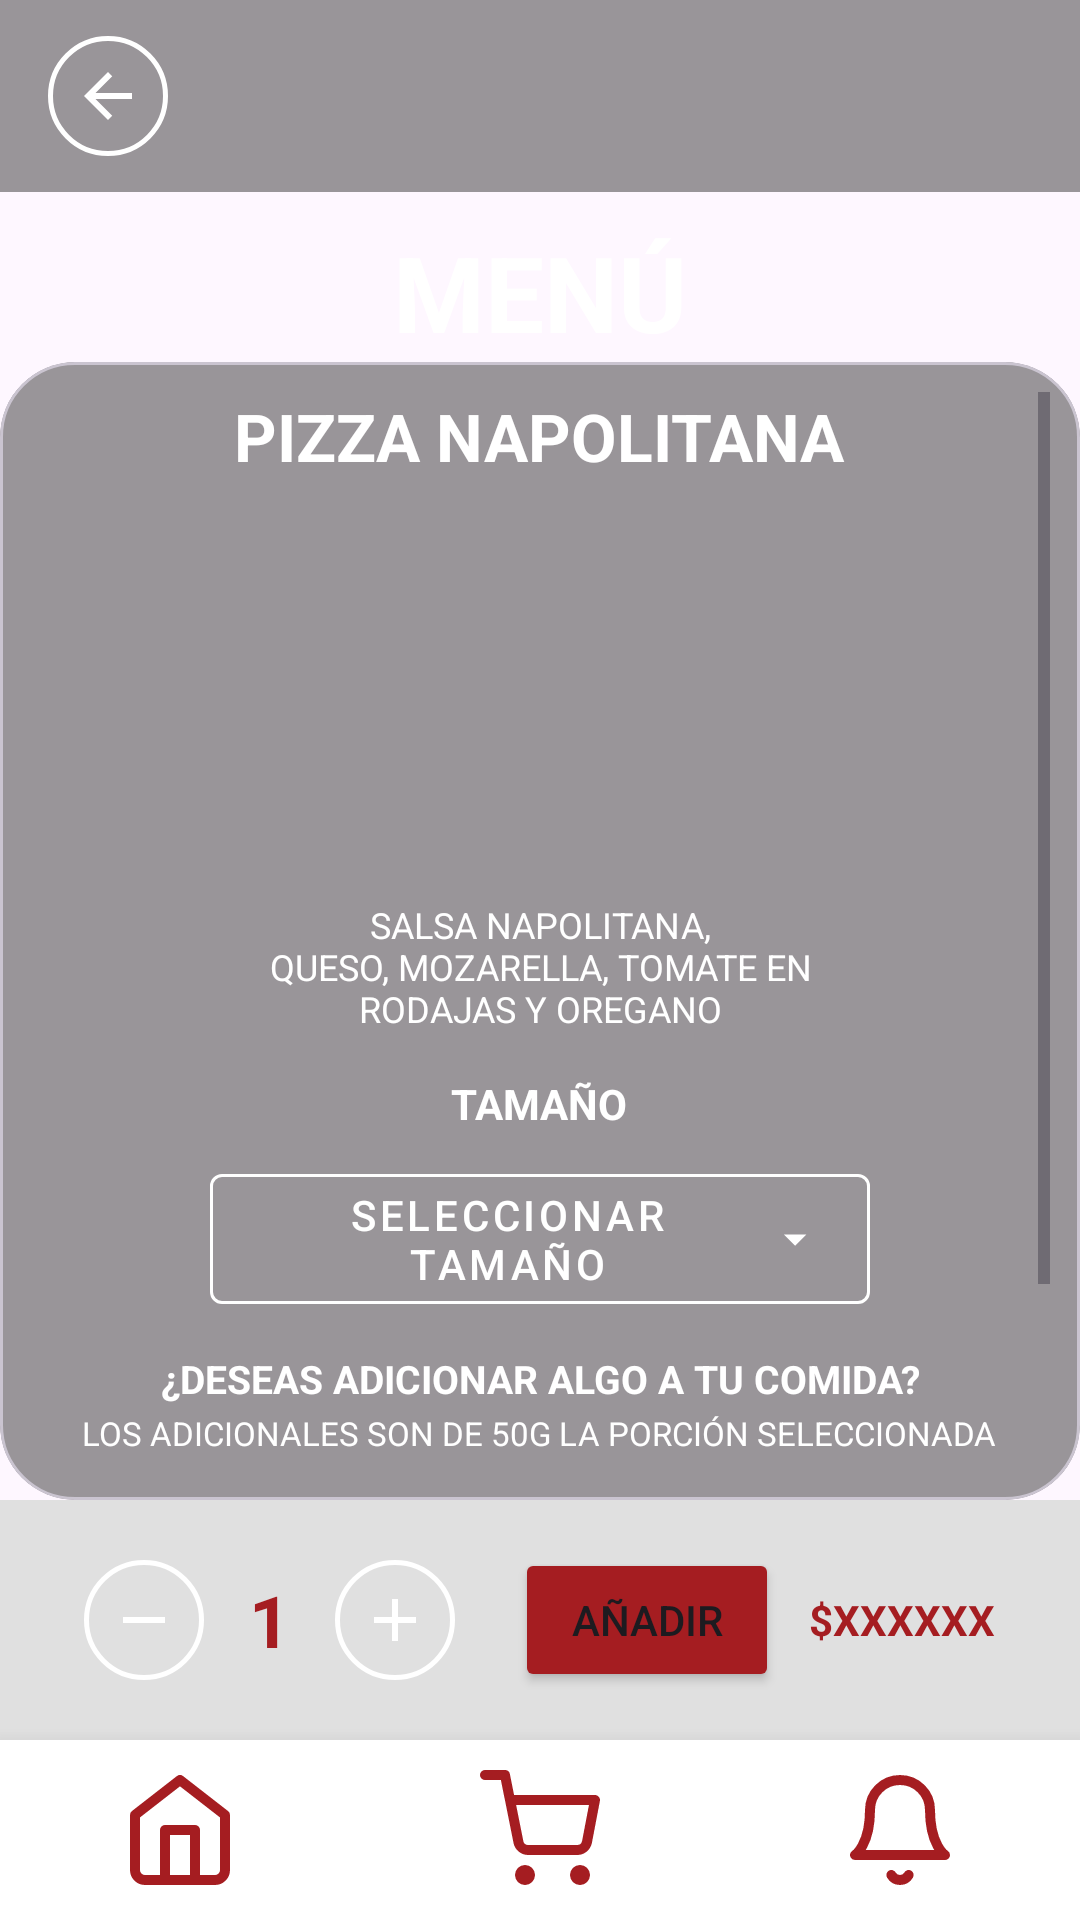

Screen size 1080 × 1920. Icon name, then its center in pixels as (x,y):
Carrito: (540,1827)
flecha atras: (108,96)
Inicio: (180,1830)
menos: (144,1620)
Notificaciones: (900,1830)
